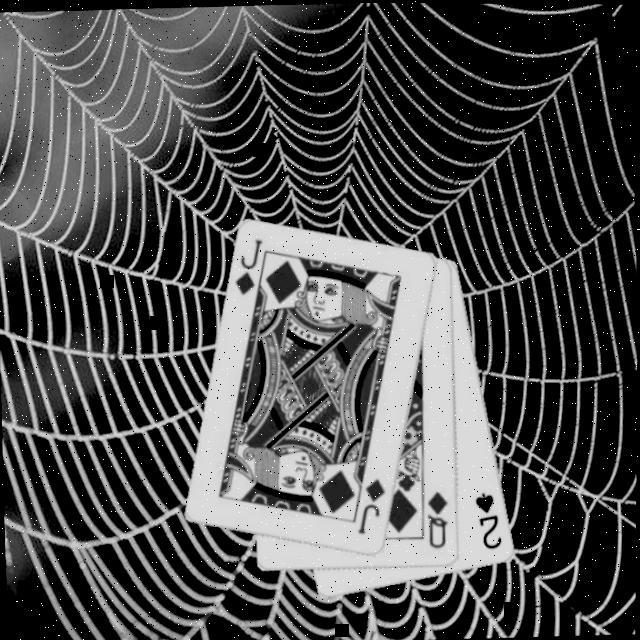2S: (470, 485, 504, 549)
JD: (352, 473, 388, 536), (228, 233, 264, 296)
QD: (423, 485, 451, 549)
